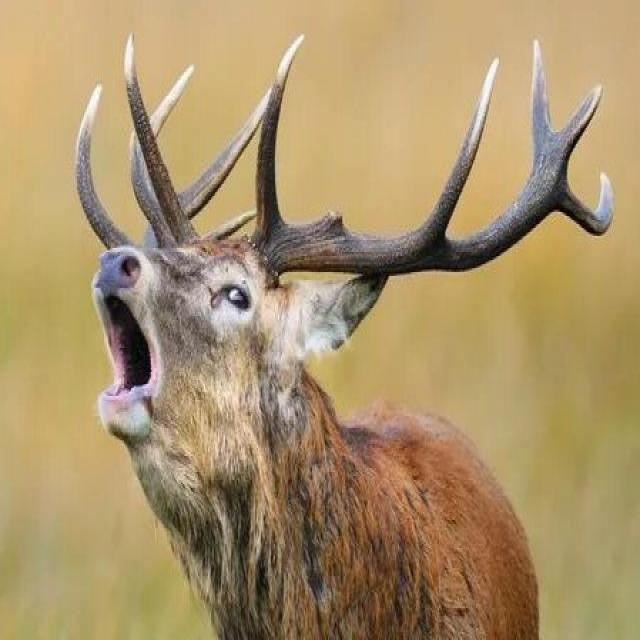deer: (39, 132, 597, 640)
